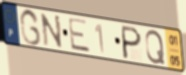1: (94, 23, 105, 54)
E: (67, 17, 92, 55)
G: (19, 8, 43, 48)
N: (39, 12, 64, 50)
P: (121, 24, 143, 61)
Q: (144, 29, 166, 66)
